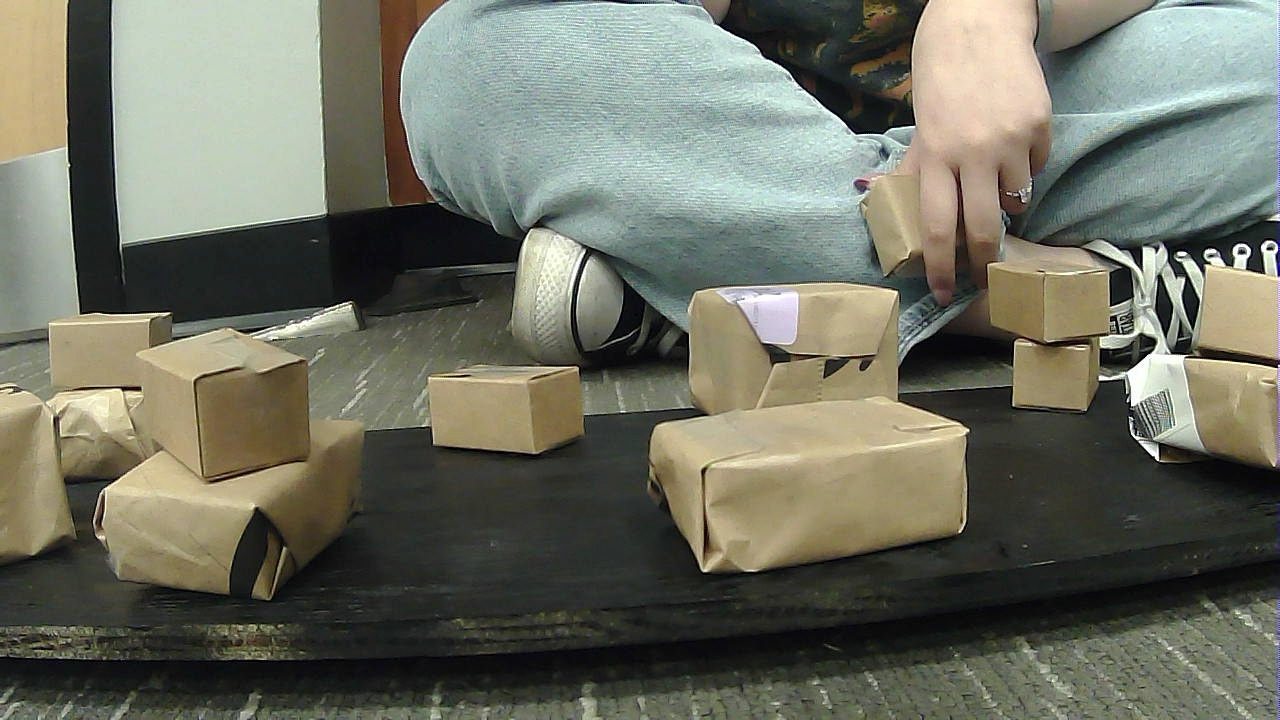package: (639, 408, 959, 567), (112, 426, 359, 607), (143, 323, 319, 478), (679, 297, 912, 410), (1119, 347, 1279, 485), (425, 356, 584, 458), (2, 383, 79, 571), (982, 261, 1110, 343), (40, 382, 155, 470), (39, 307, 150, 394), (1188, 267, 1269, 361), (1012, 339, 1106, 419)
stacked: (103, 329, 362, 599), (1143, 263, 1278, 479), (972, 247, 1105, 416), (45, 311, 160, 467)
